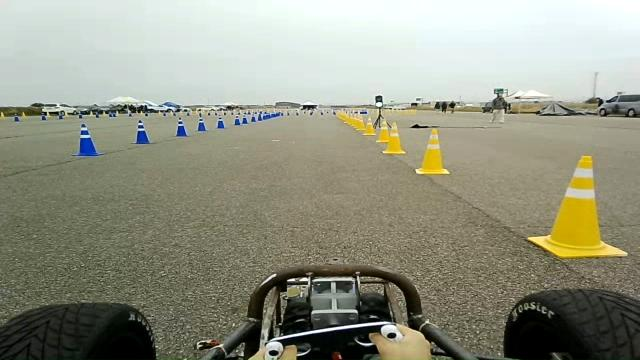blue cone: (70, 123, 104, 156), (131, 119, 153, 144), (173, 116, 189, 136), (195, 114, 208, 131), (216, 112, 226, 128), (241, 110, 248, 124), (233, 113, 240, 125), (256, 109, 262, 121), (262, 110, 269, 120), (250, 112, 256, 122)
yellow cone: (526, 154, 628, 259), (414, 128, 450, 175), (381, 122, 406, 154), (376, 114, 394, 142), (362, 117, 376, 136), (354, 115, 366, 130), (336, 110, 346, 121), (343, 112, 352, 124)
